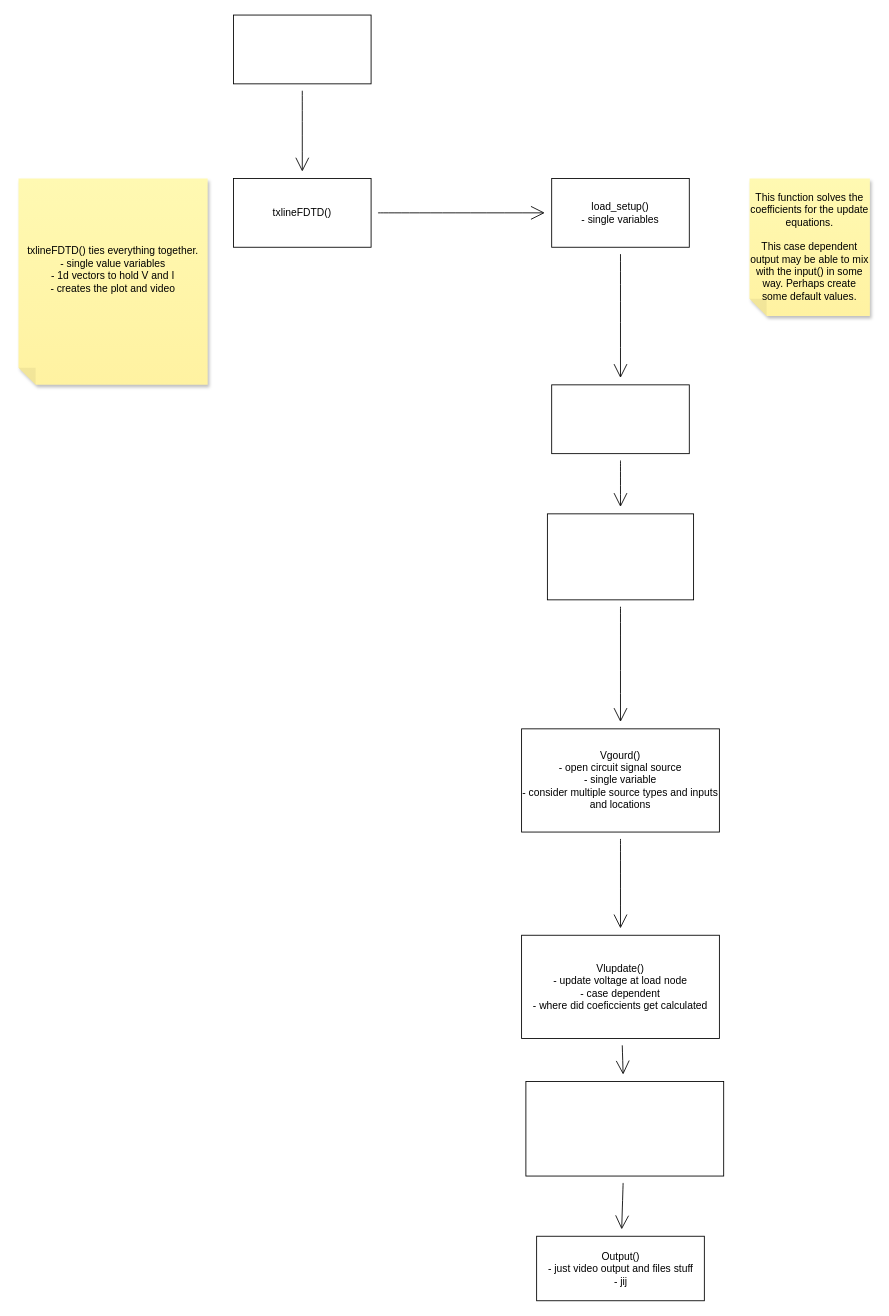
Image size: 889x1316. Some labels were removed from this diagram. Each missing label, with the centre of its shape:
"iupdate() - some case dependence - is coeficcient changing? -" belongs at [624,1128].
"Set Up - single variables" belongs at [302,49].
"Vsupdate() - update source voltate at node 1 - single element in array" belongs at [620,556].
"vupdate() - single variables" belongs at [620,419].
